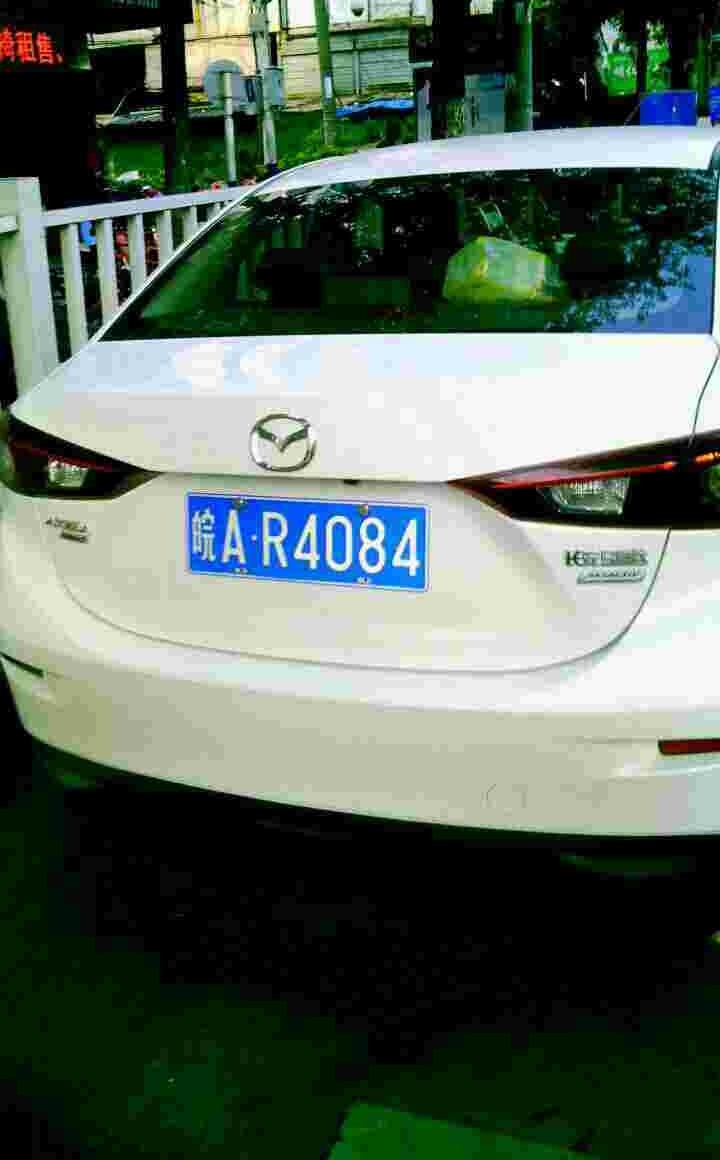license_plate: (176, 487, 427, 588)
